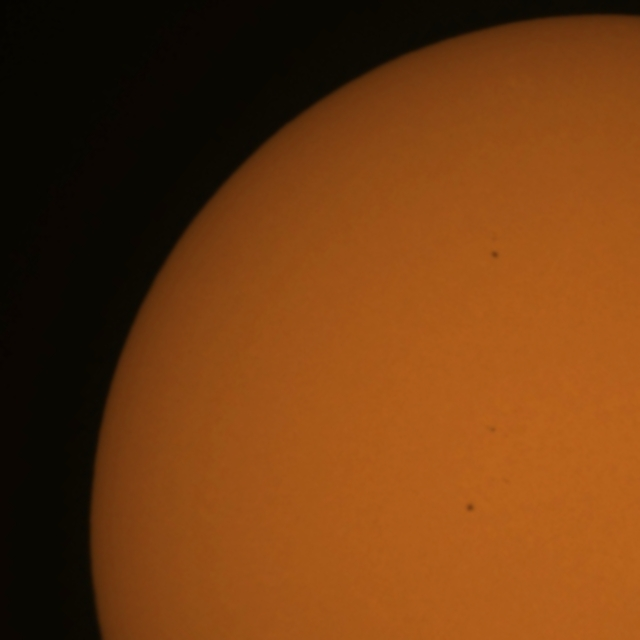sunspot: (484, 423, 498, 436), (464, 501, 477, 515), (489, 249, 500, 261)
